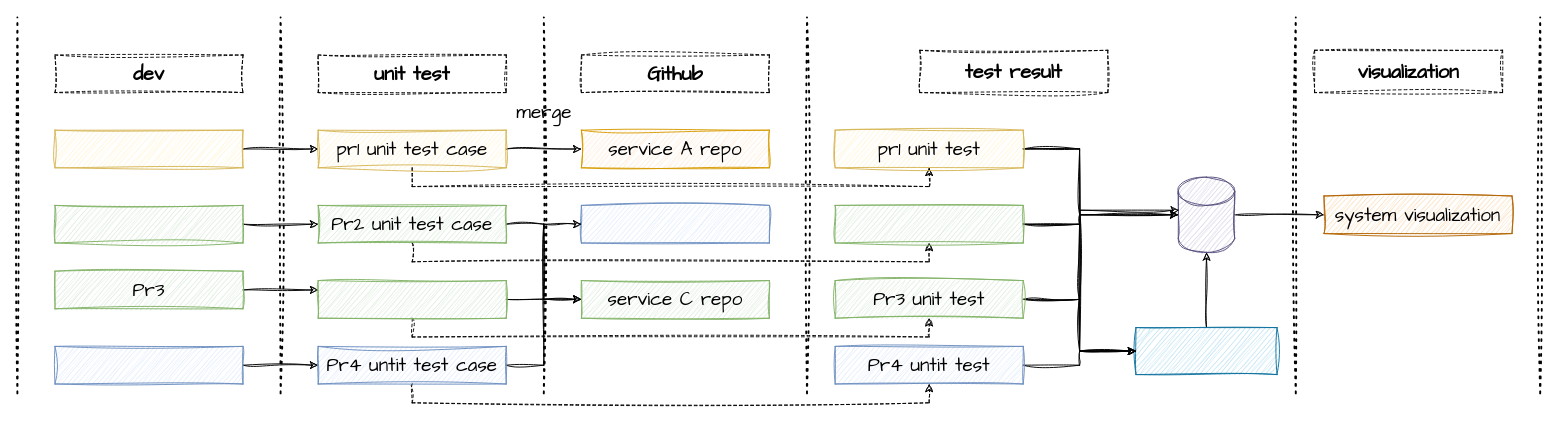
The diagram is 1558 pixels wide and 427 high, and some of its shapes have lost their labels. The centre of each missing label's shape, as x and y in pixels:
"DB" goes at [1206,214].
"Pr 1" goes at [148,148].
"Pr2" goes at [148,223].
"Pr2 unit test" goes at [928,223].
"Pr3 unit test case" goes at [411,299].
"Pr4" goes at [148,364].
"result analysis" goes at [1206,351].
"service B repo" goes at [674,223].
